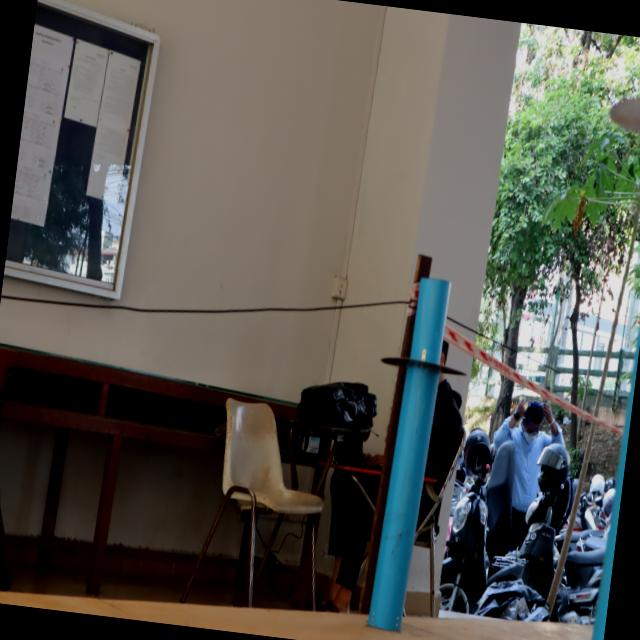pole: (361, 260, 483, 432)
